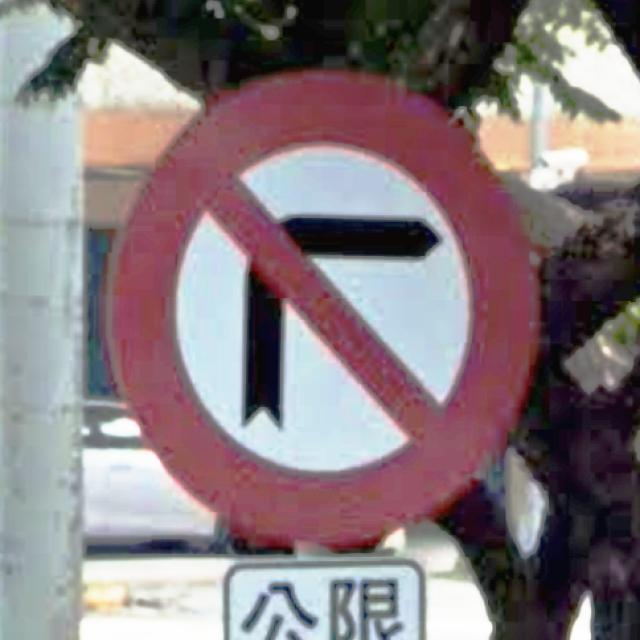noturnright: (107, 75, 538, 547)
